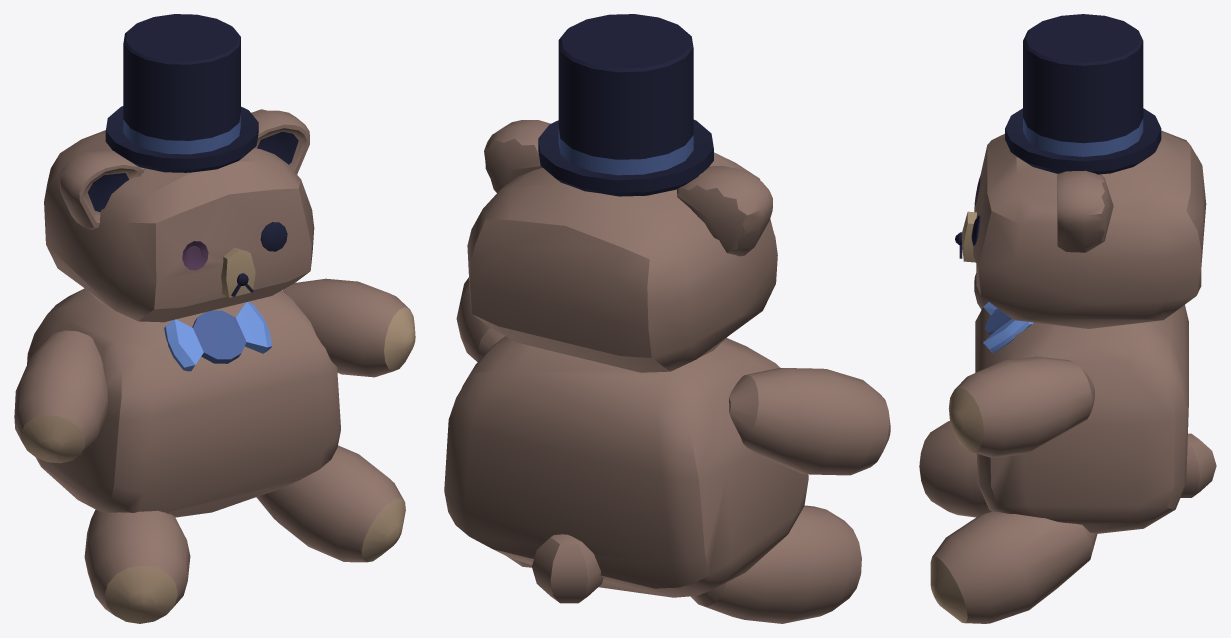
Rendered from Bear.fbx.
3 views of the same model, side by side, from view 1: azimuth 30°, elevation 25°; view 2: azimuth 150°, elevation 25°; view 3: azimuth 270°, elevation 25° (orthographic). The views are drawn at different scales.
Visible parts, largest first — view 1: Cube; view 2: Cube; view 3: Cube.
Boxes of the visible parts, x1,y1,x2,y2 form: Cube: [14, 14, 415, 623]; Cube: [444, 14, 890, 623]; Cube: [919, 14, 1216, 623].
Bounding box in the file's own units: 3.18 × 4.15 × 2.14.
